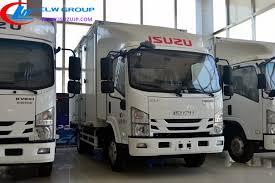truck: (96, 30, 229, 171), (1, 5, 85, 182), (216, 39, 275, 168)
